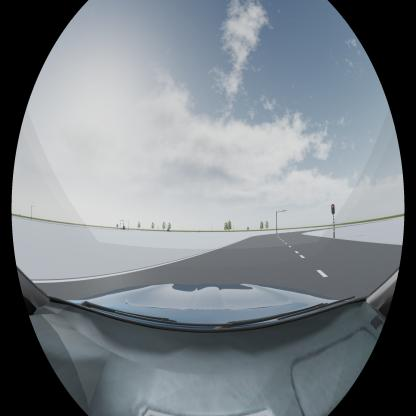Red Light: (331, 204, 335, 214)
